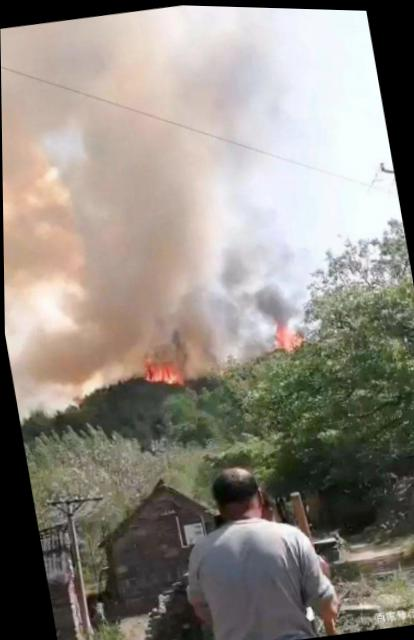fire: (138, 354, 192, 395), (258, 313, 307, 355)
